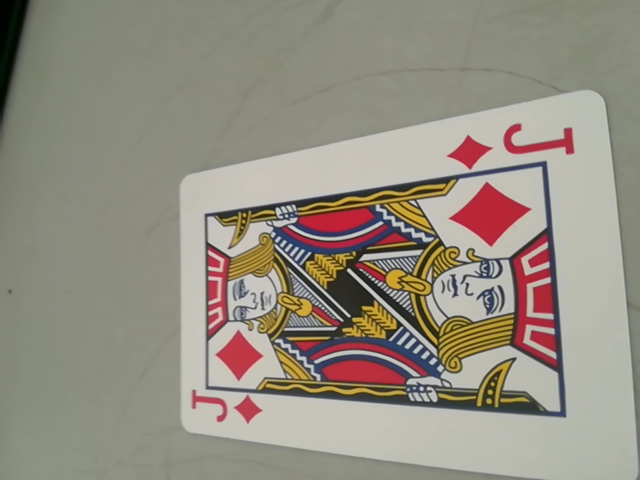fk j: (449, 116, 590, 174), (188, 385, 267, 434)
